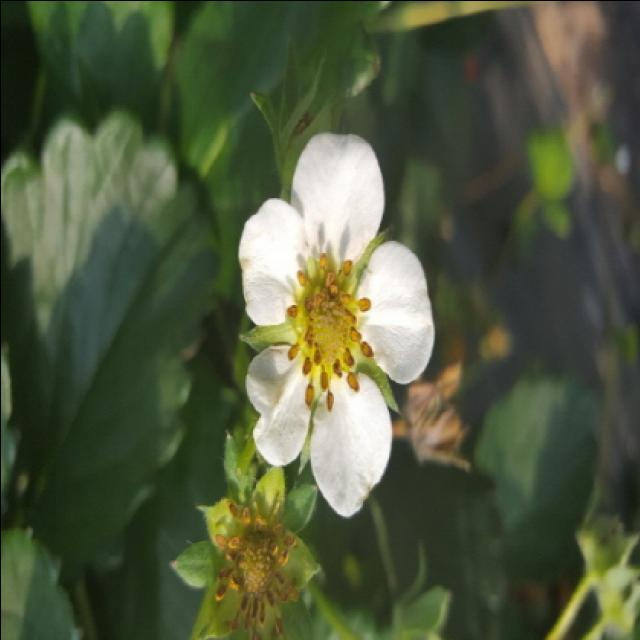Blossom Blight: (278, 246, 382, 416), (204, 493, 306, 640)
